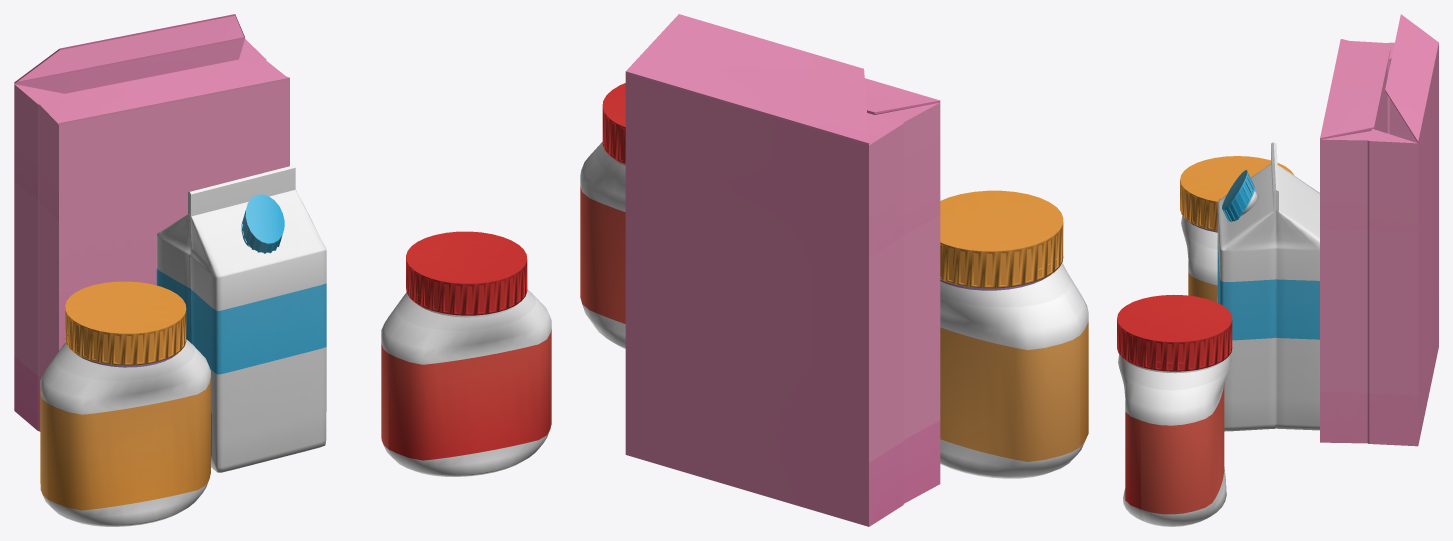
File: milk.fbx
3 views of the same model, side by side, from view 1: azimuth 30°, elevation 25°; view 2: azimuth 150°, elevation 25°; view 3: azimuth 270°, elevation 25° (orthographic). The views are drawn at different scales.
Visible parts, largest first — view 1: LOOP CEREAL BOX, MILK BOX, NUTELLA CAP.001, NUTELLA CAP; view 2: LOOP CEREAL BOX, NUTELLA CAP.001, NUTELLA CAP; view 3: LOOP CEREAL BOX, MILK BOX, NUTELLA CAP, NUTELLA CAP.001.
Part boxes in pixels (bbox=[...]): LOOP CEREAL BOX: bbox=[14, 14, 289, 431]; MILK BOX: bbox=[156, 165, 326, 472]; NUTELLA CAP.001: bbox=[40, 281, 210, 526]; NUTELLA CAP: bbox=[381, 231, 551, 476]; LOOP CEREAL BOX: bbox=[625, 14, 940, 526]; NUTELLA CAP.001: bbox=[940, 190, 1088, 478]; NUTELLA CAP: bbox=[580, 83, 625, 349]; LOOP CEREAL BOX: bbox=[1320, 14, 1438, 446]; MILK BOX: bbox=[1217, 142, 1319, 431]; NUTELLA CAP: bbox=[1117, 295, 1232, 526]; NUTELLA CAP.001: bbox=[1180, 156, 1293, 302].
Size of the model in its own units: 72.73 by 58.31 by 47.54.
